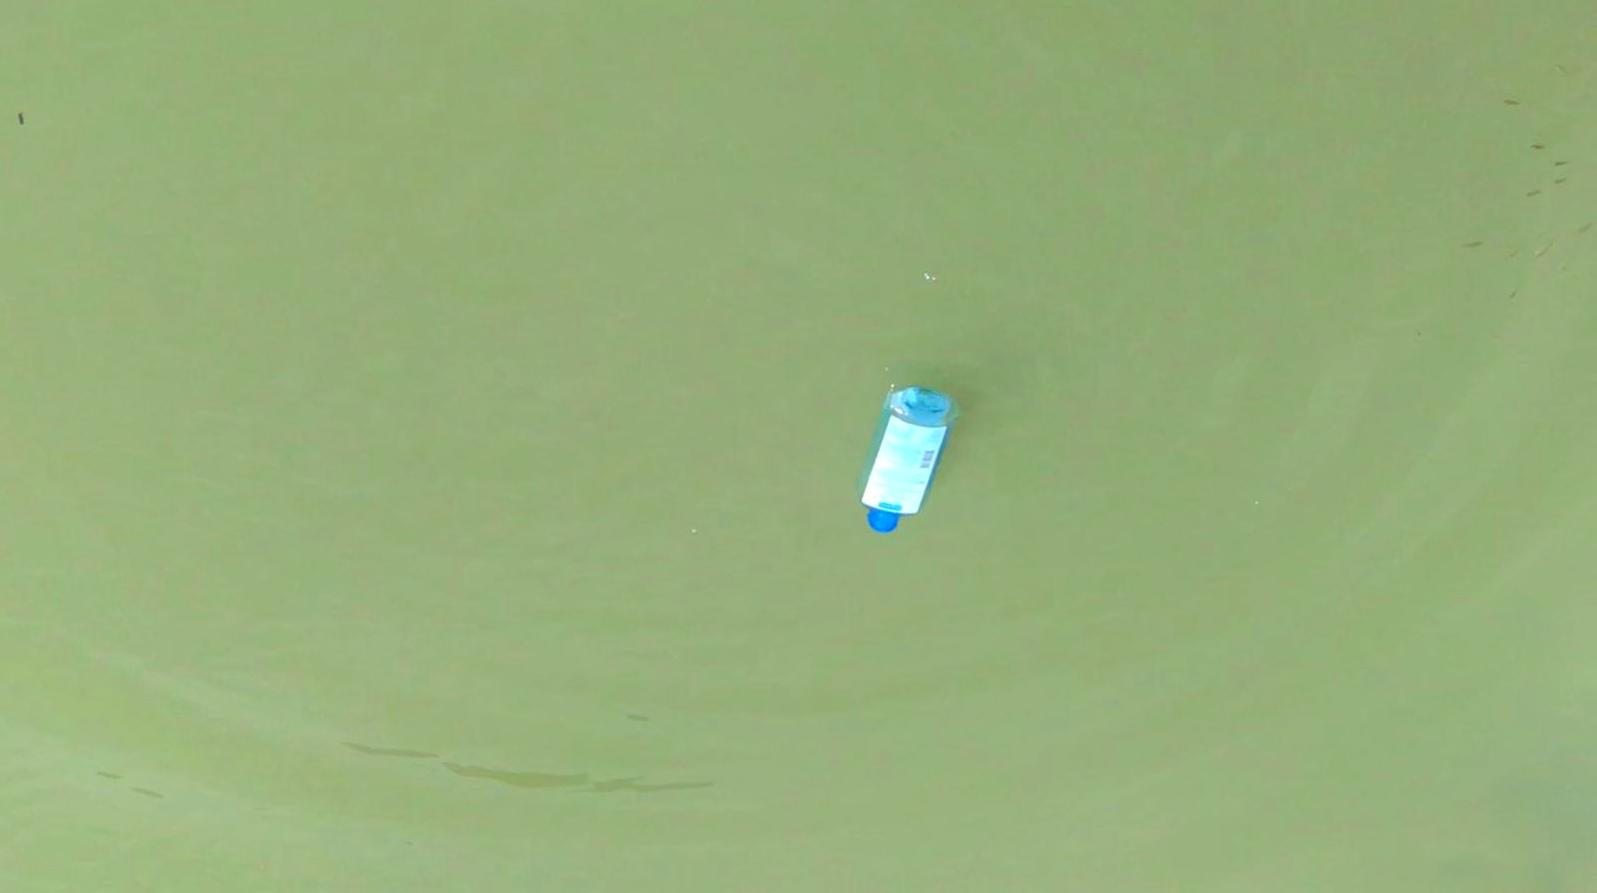Glass: (853, 373, 960, 544)
